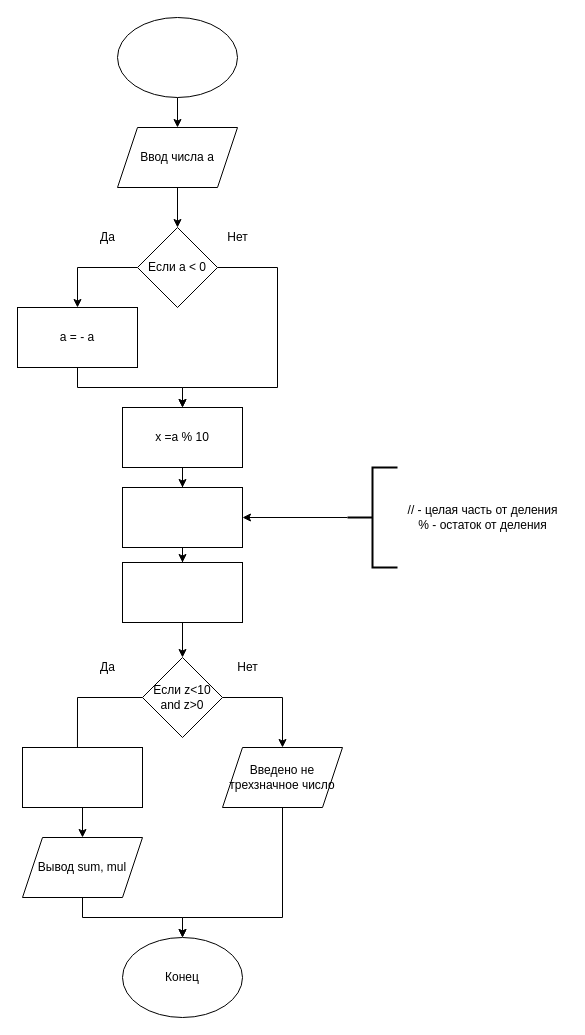
Image size: 585x1035. Some labels were removed from this diagram. The centre of each missing label's shape, as x and y in pixels:
"sum = x + y + z mul = x * y * z" belongs at (x=82, y=777).
"y = (a // 10) % 10" belongs at (x=182, y=517).
"z = (a // 100) % 10" belongs at (x=182, y=592).
"Начало" belongs at (x=177, y=57).
